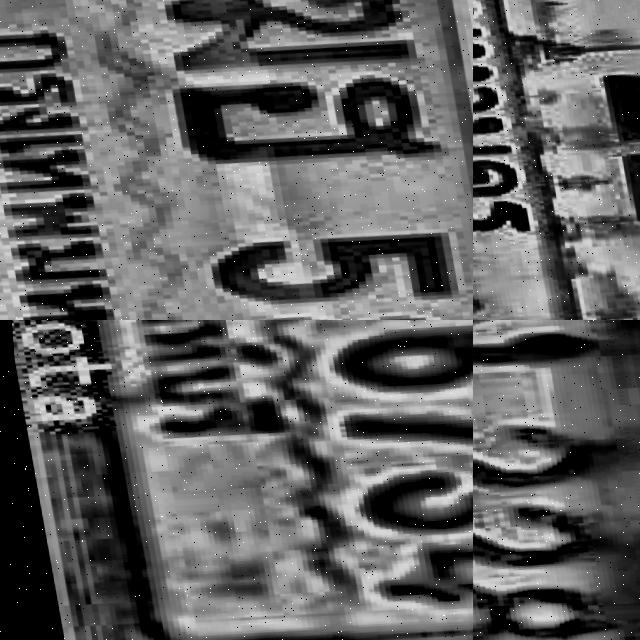license-plate: (0, 0, 473, 320), (0, 320, 473, 640), (473, 0, 640, 320), (473, 320, 640, 640)
